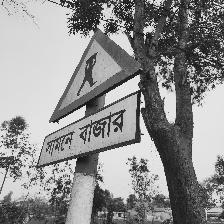Market-in-front: (38, 28, 144, 169)
